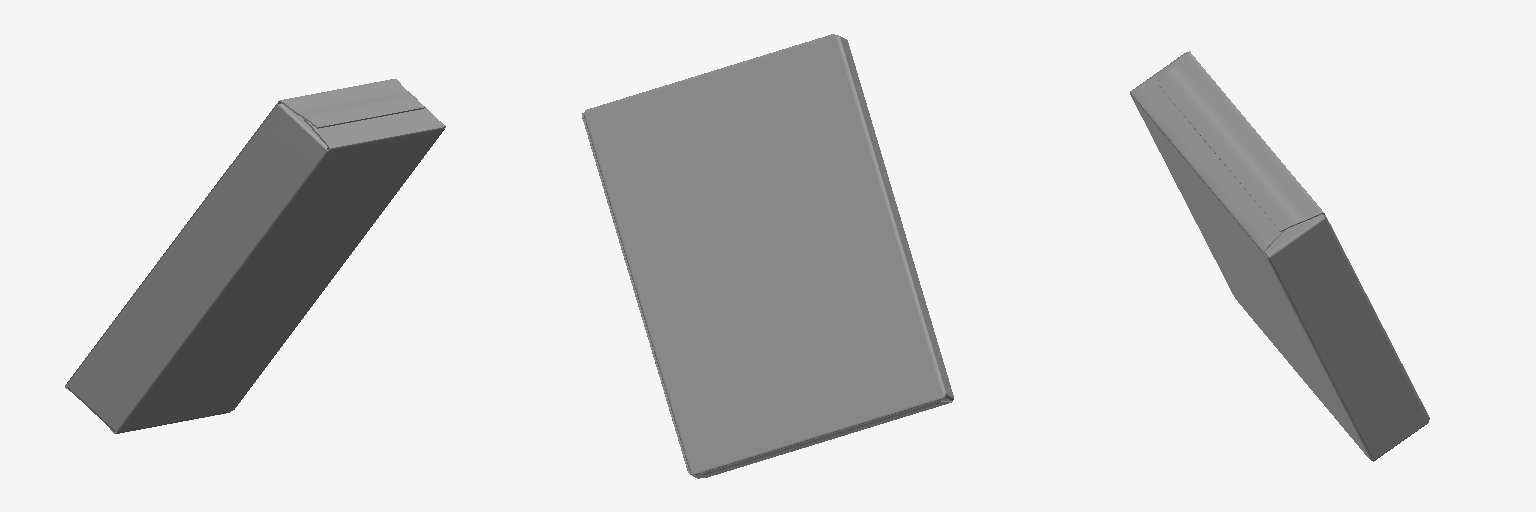
The model's file is box_of_cereal_xyz_3.obj.
The picture shows the model from 3 angles: view 1: azimuth 30°, elevation 25°; view 2: azimuth 150°, elevation 25°; view 3: azimuth 270°, elevation 25°; orthographic projection.
Visible parts, largest first — view 1: Box_Box_Box_Box_of_cerealCOL_jpg.001; view 2: Box_Box_Box_Box_of_cerealCOL_jpg.001; view 3: Box_Box_Box_Box_of_cerealCOL_jpg.001.
Part boxes in pixels (left/top/right/bottom): Box_Box_Box_Box_of_cerealCOL_jpg.001: left=65, top=79, right=445, bottom=433; Box_Box_Box_Box_of_cerealCOL_jpg.001: left=582, top=34, right=953, bottom=478; Box_Box_Box_Box_of_cerealCOL_jpg.001: left=1130, top=51, right=1429, bottom=461.
Size of the model in its own units: 0.28 by 0.2825 by 0.1982.